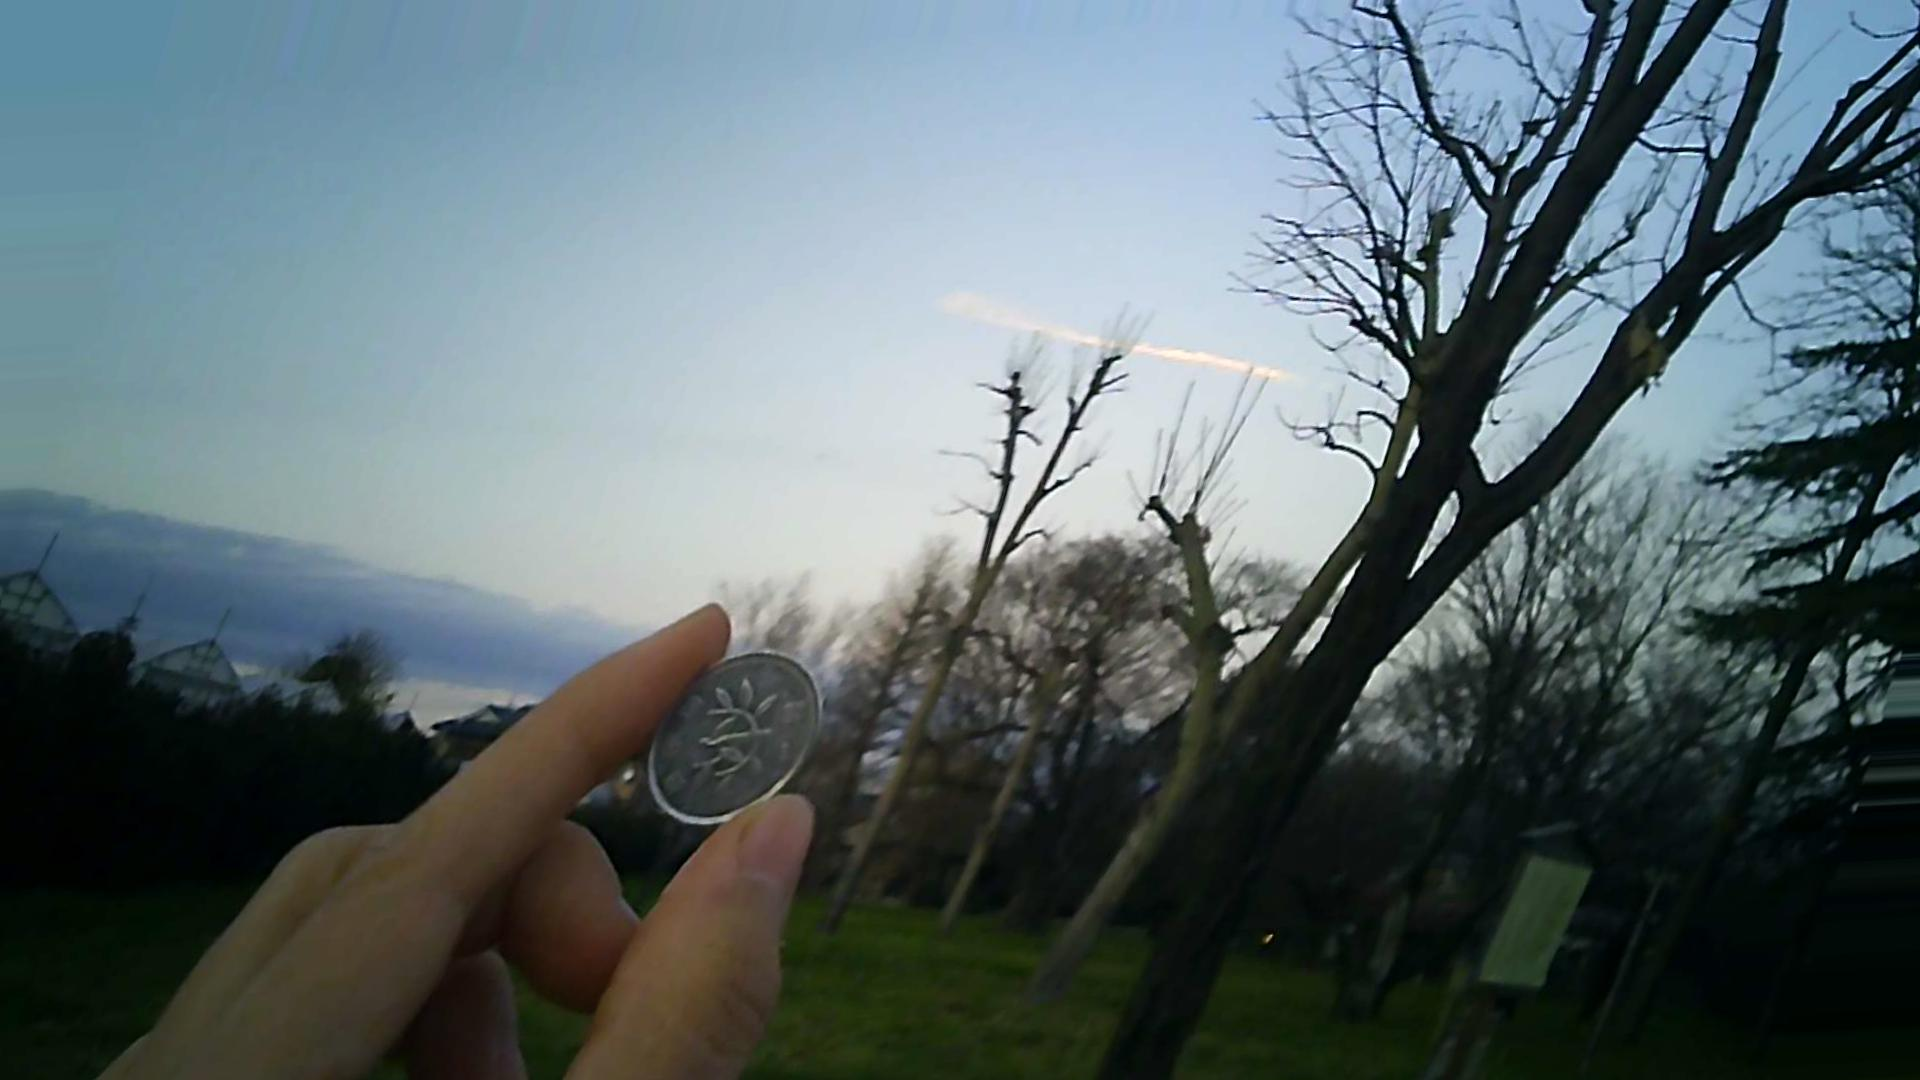1 Yen: (616, 636, 814, 824)
